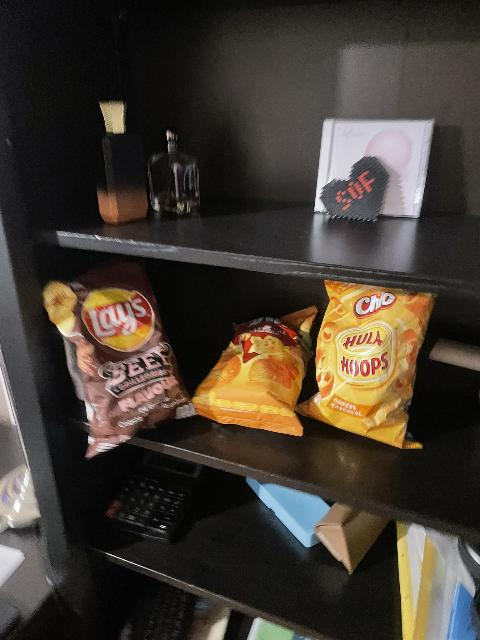Chio Cascaval 125g: (192, 307, 318, 438)
Chio Hula Hoops Cheese 70g: (303, 284, 438, 450)
Lays Beef Grilled Ribs 125g: (43, 263, 197, 453)
